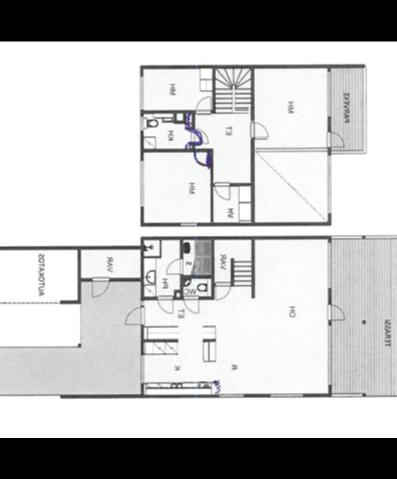bathroom: (142, 111, 191, 149), (182, 277, 214, 300)
door: (180, 292, 202, 315), (192, 96, 216, 117), (210, 180, 232, 201), (326, 303, 347, 324), (192, 148, 212, 170), (248, 120, 270, 140), (213, 280, 231, 304), (155, 294, 175, 315), (90, 276, 110, 296), (125, 306, 145, 326), (325, 132, 346, 150), (190, 128, 211, 145), (164, 258, 184, 274)
perimeter: (80, 235, 332, 397), (139, 65, 331, 225)
stairs: (215, 66, 250, 112), (231, 259, 251, 289)
window: (322, 320, 334, 391), (324, 150, 332, 218), (266, 389, 306, 402), (324, 68, 333, 120), (138, 158, 146, 210), (326, 240, 334, 292), (136, 72, 145, 112), (139, 352, 147, 388), (214, 392, 246, 400), (136, 113, 146, 133), (139, 298, 147, 307)
